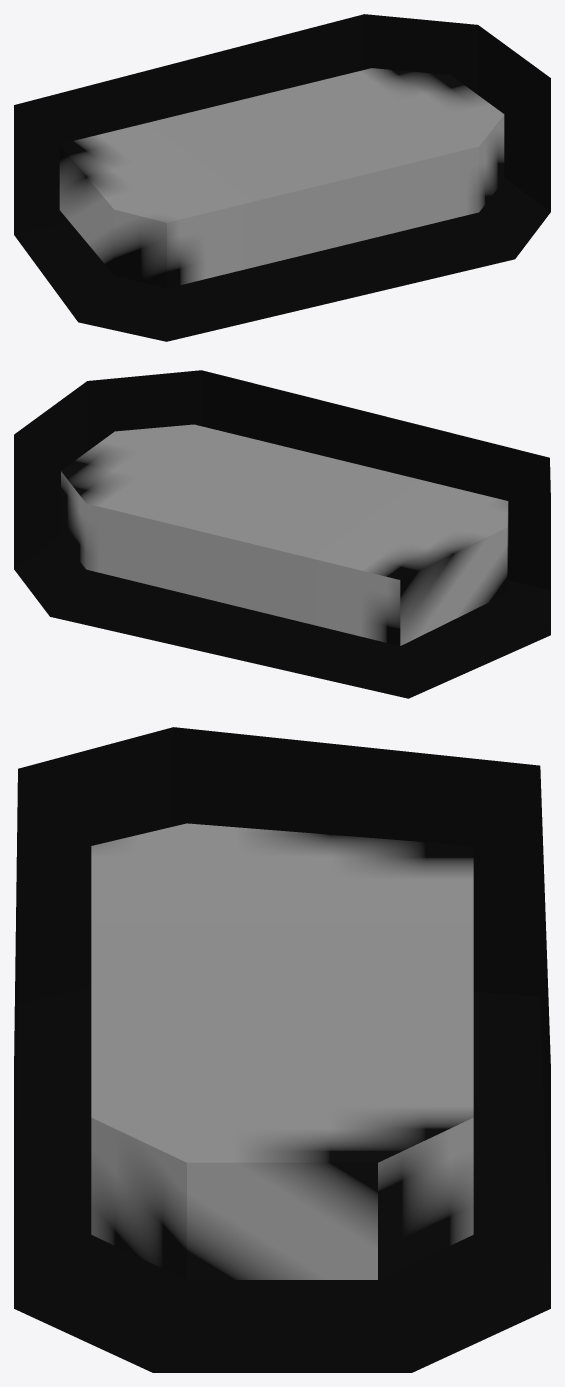
The model's file is Building_HoldingPlatform_Things_Building_HoldingPlatform_HoldingPlatform_ChainFastener_StrongOutline.glb.
The picture shows the model from 3 angles, top to bottom: view 1: azimuth 30°, elevation 25°; view 2: azimuth 150°, elevation 25°; view 3: azimuth 270°, elevation 25°; orthographic projection. The views are drawn at different scales.
Visible parts, largest first — view 1: Body, Outline; view 2: Body, Outline; view 3: Body, Outline.
Part boxes in pixels (box(x1,y1,x2,y2)): Body: box(59, 68, 504, 288); Outline: box(14, 14, 550, 341); Body: box(61, 424, 508, 645); Outline: box(14, 370, 550, 698); Body: box(91, 823, 473, 1279); Outline: box(14, 727, 550, 1372).
Bounding box in the file's own units: 0.2804 × 0.0776 × 0.1567.
Materials: 2 (1 with a texture image).
